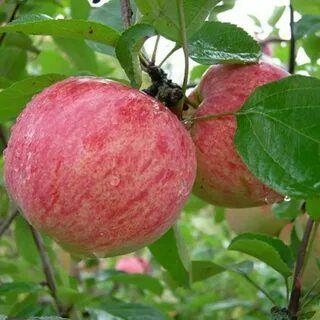Apple: (6, 78, 196, 258)
